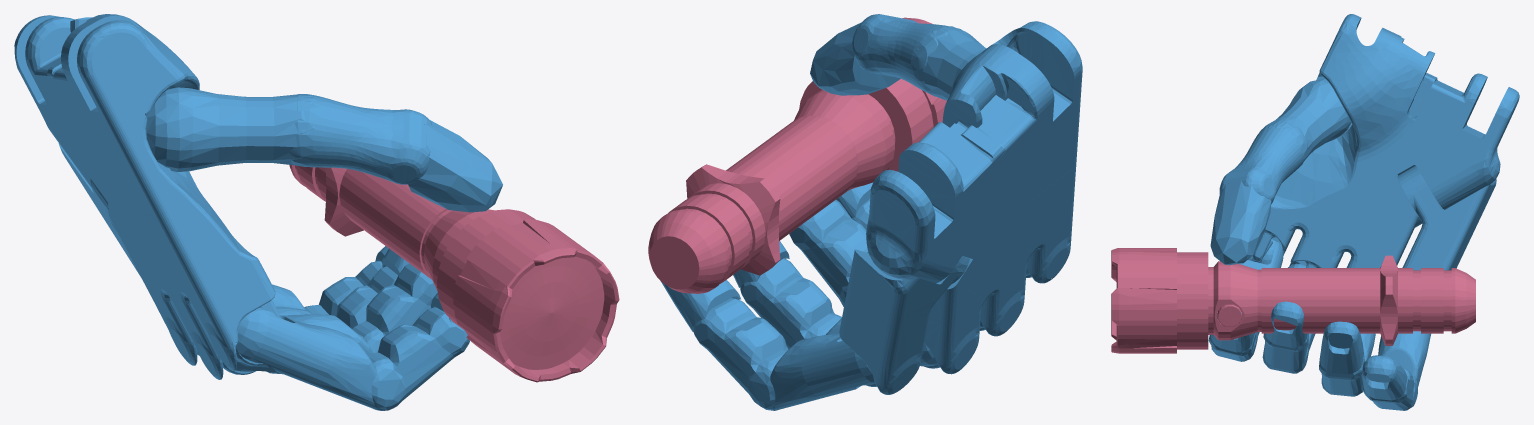
The picture shows the model from 3 angles, left to right: view 1: azimuth 30°, elevation 25°; view 2: azimuth 150°, elevation 25°; view 3: azimuth 270°, elevation 25°; orthographic projection. The views are drawn at different scales.
Visible parts, largest first — view 1: 33; view 2: 33; view 3: 33.
Boxes of the visible parts, bbox=[...] form: 33: bbox=[14, 14, 619, 410]; 33: bbox=[648, 14, 1082, 410]; 33: bbox=[1111, 14, 1519, 410].
Bounding box in the file's own units: 0.14 × 0.139 × 0.1675.
